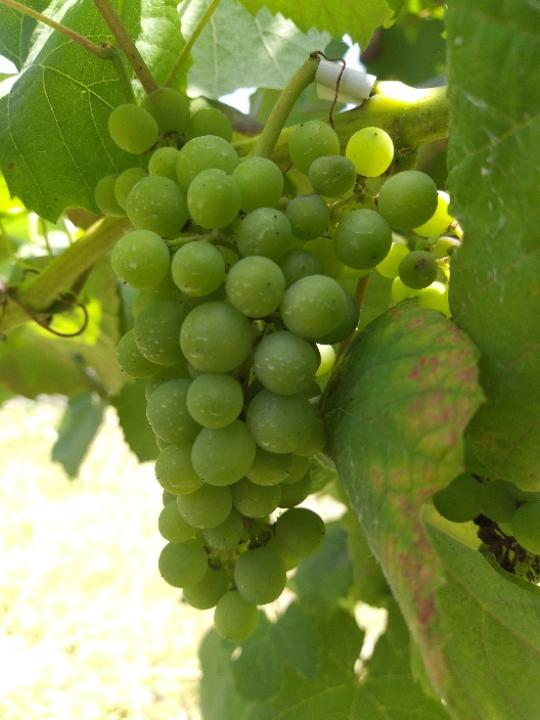grape: (91, 85, 453, 647)
